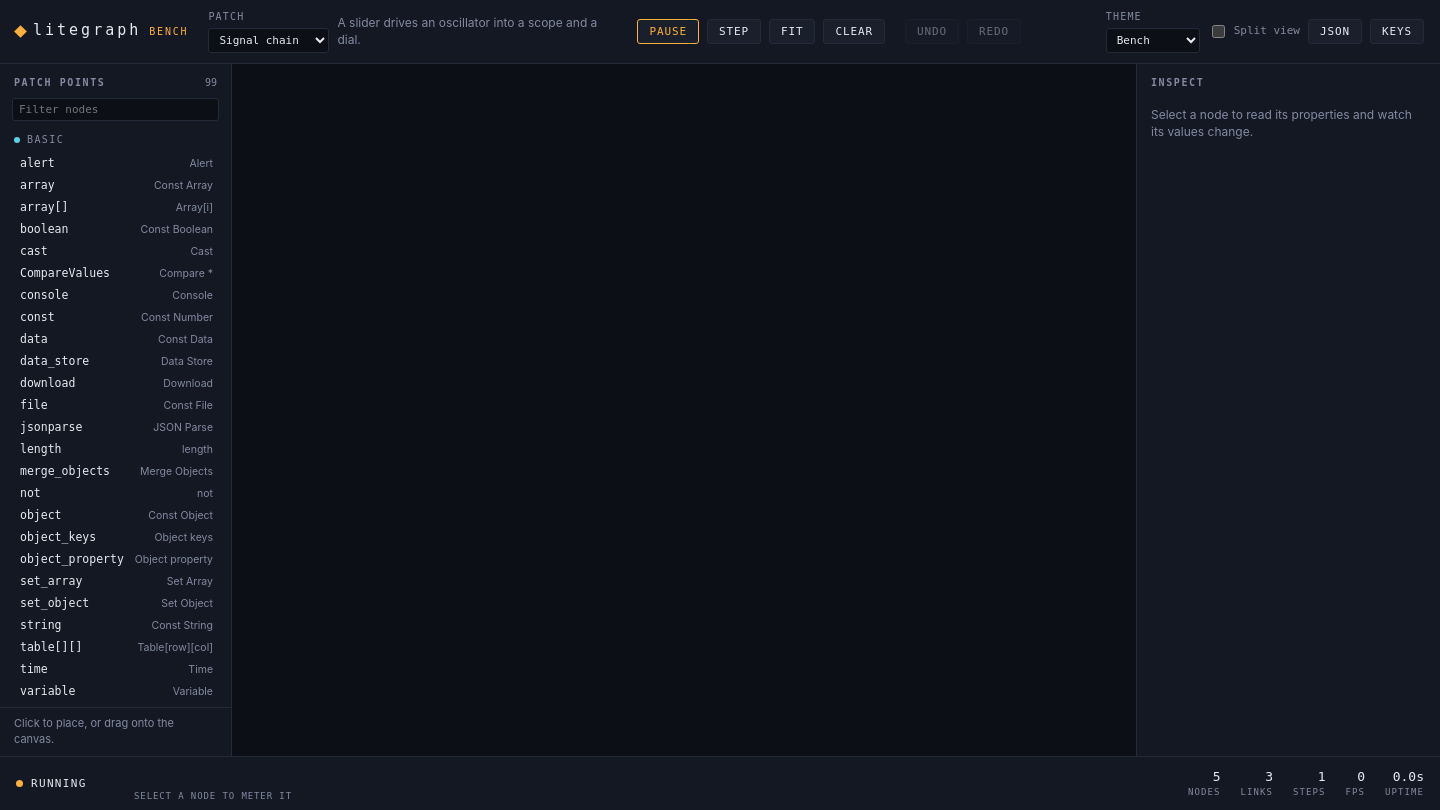
Test: <App> editing shortcuts › opens the shortcuts sheet from the toolbar
Click the button "Keys" at (1397, 31), box [1370,19,1424,44]
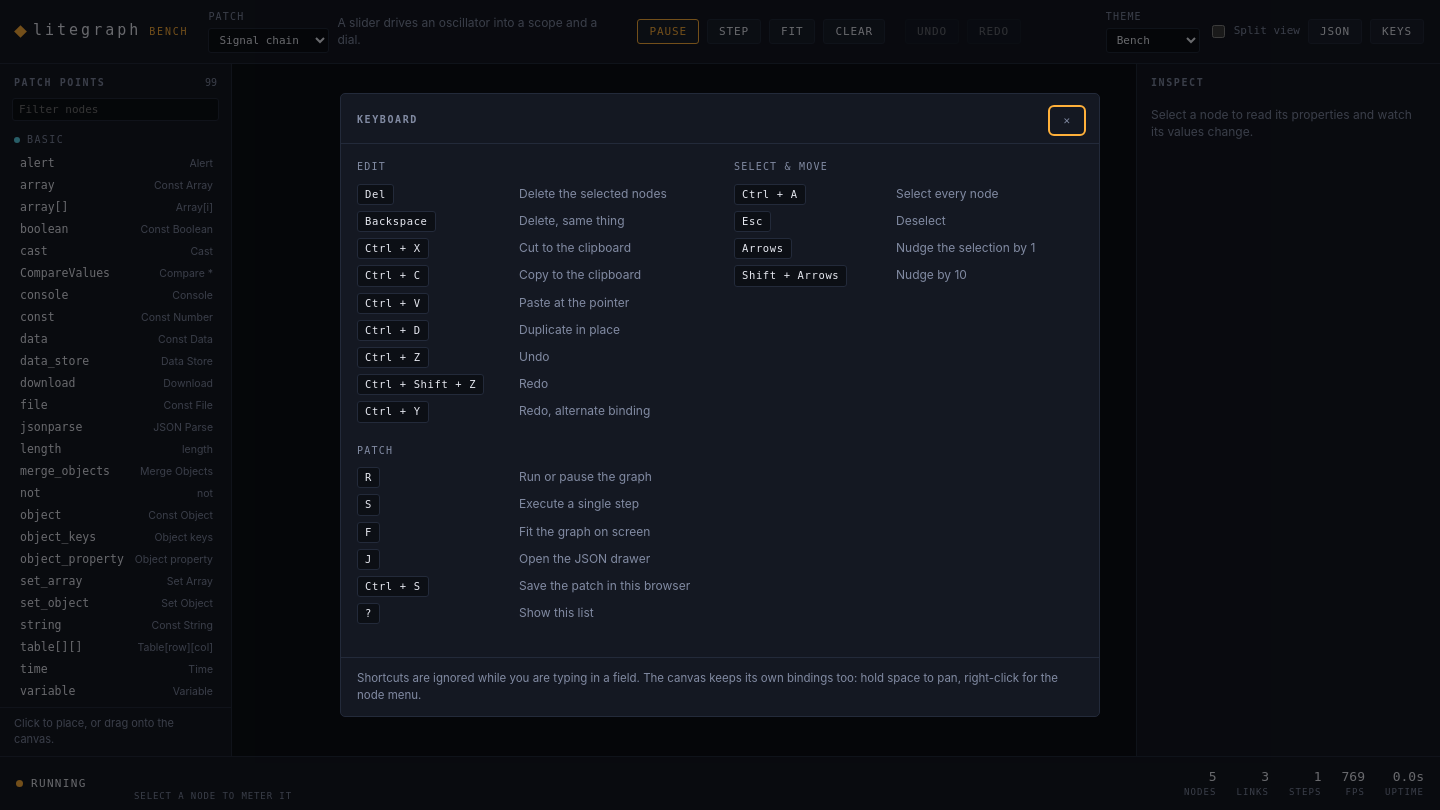
Expected: the dialog is shown, [340,93,1100,717]
Click the button named "Close shortcuts" at (1067, 121), box [1052,108,1083,133]
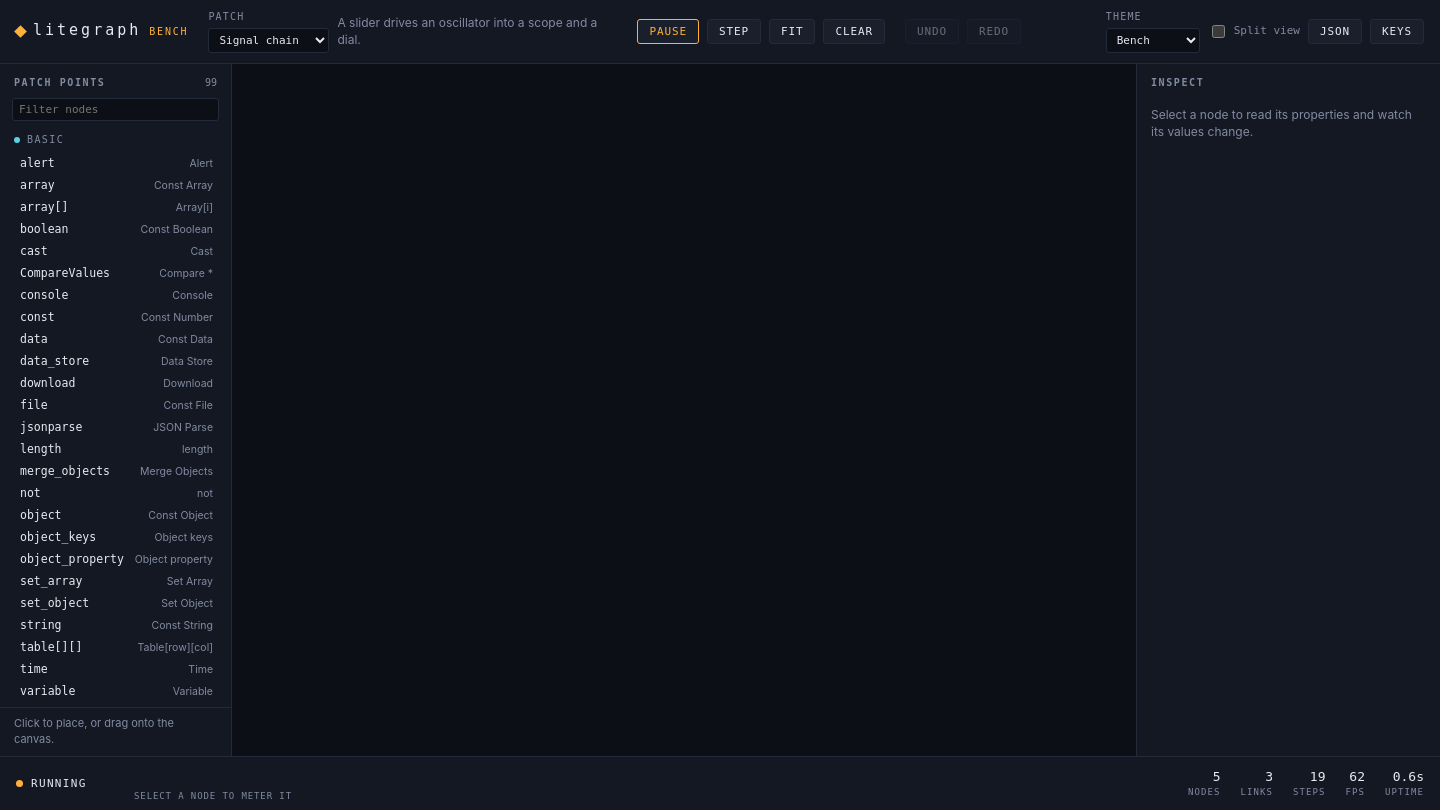
Expected: the dialog is gone
